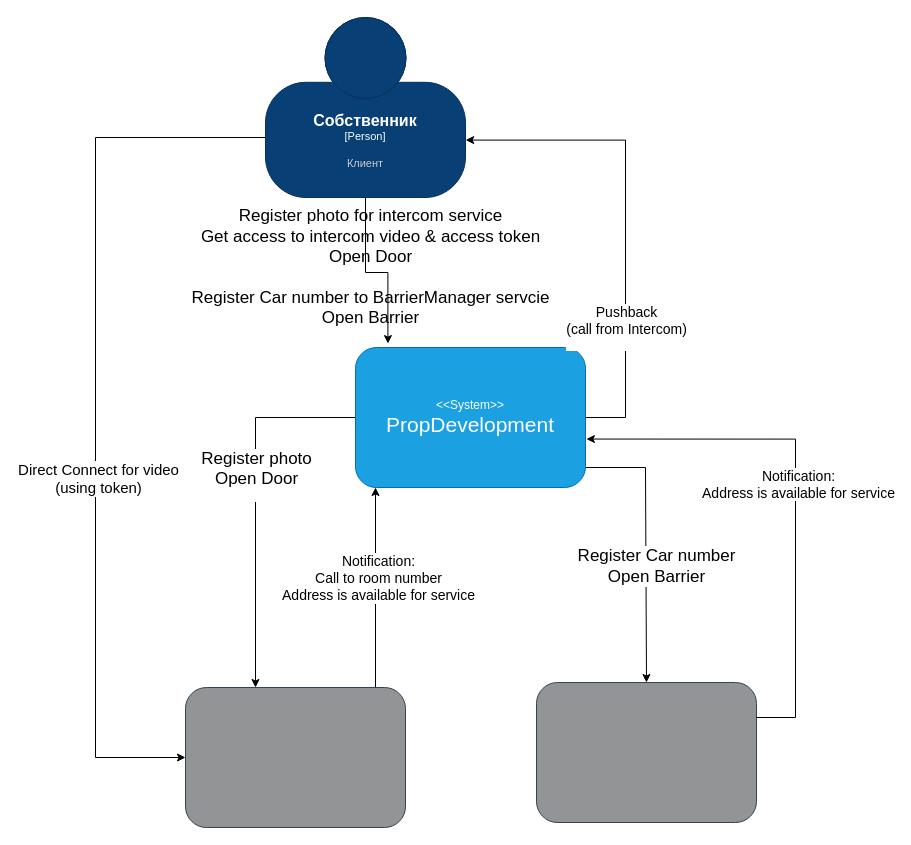
Image size: 911x845. Some labels were removed from this diagram. The shapes that lost their labels are listed below. From the top down, each one's centre as x and y in pixels, then its label:
[295,757]: <<System>> Intercom
[646,752]: <<System>> BarrierManager
